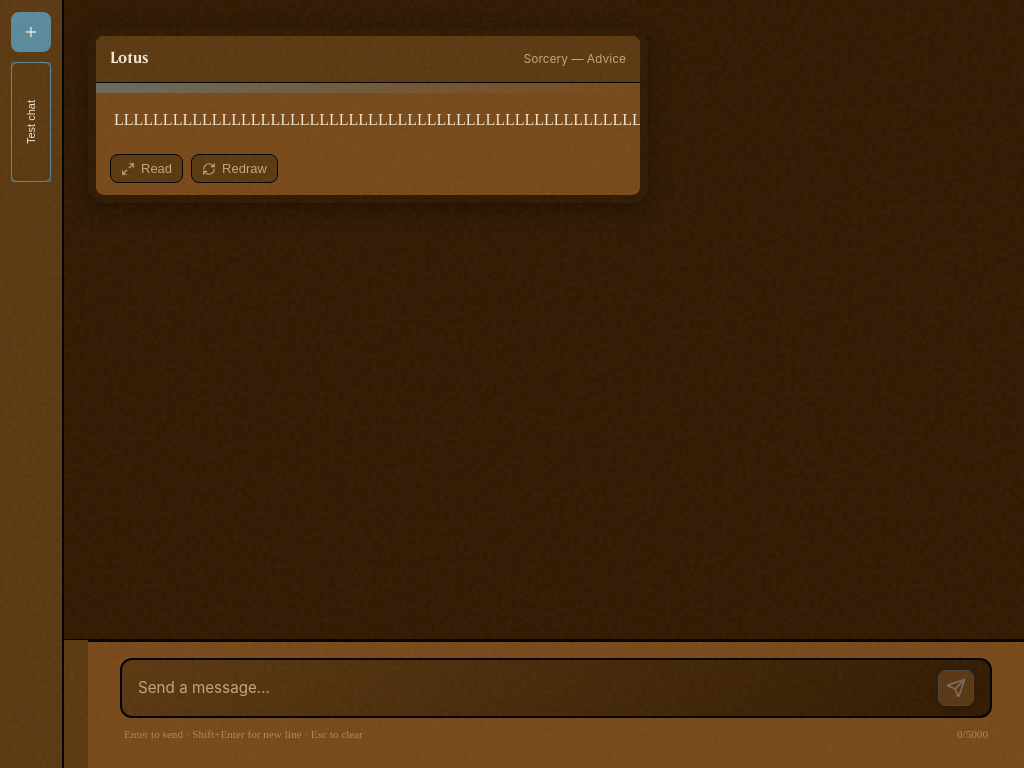
Scenario: CardsLayout › opens and closes the expanded reading overlay
The image size is (1024, 768).
Step 1. Click the button with aria-label "Read full response" → [147, 169], box [110,154,183,183]
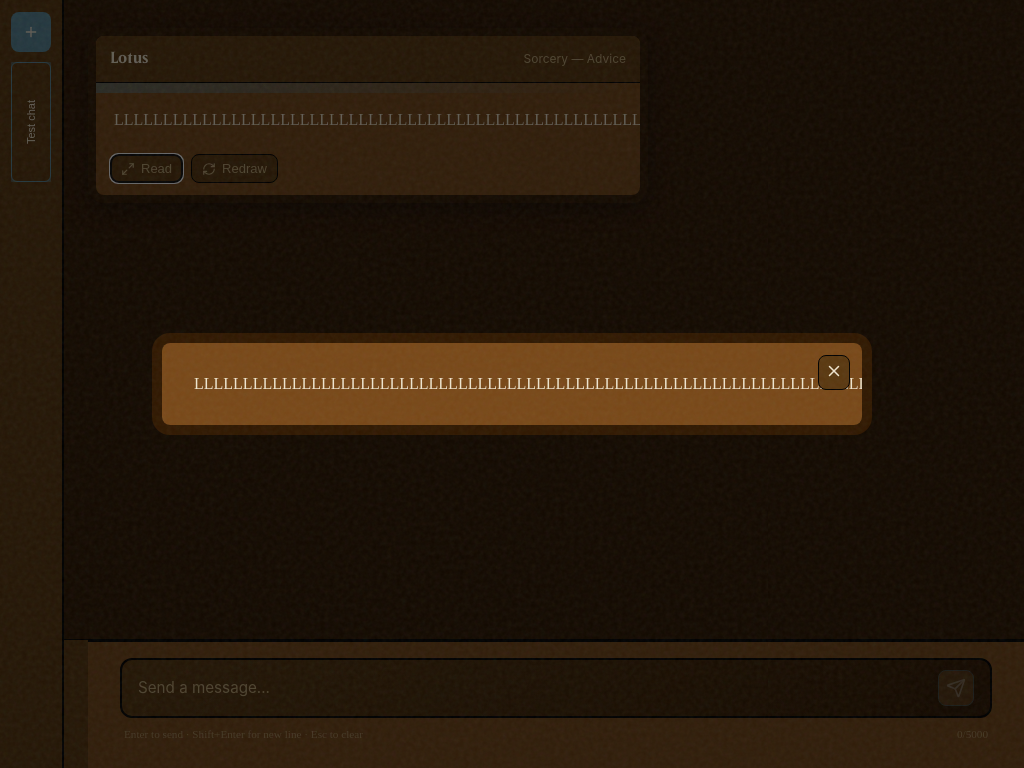
Result: the button named "Close" is shown
Step 2. Click the button named "Close" → [834, 373], box [818,355,850,390]
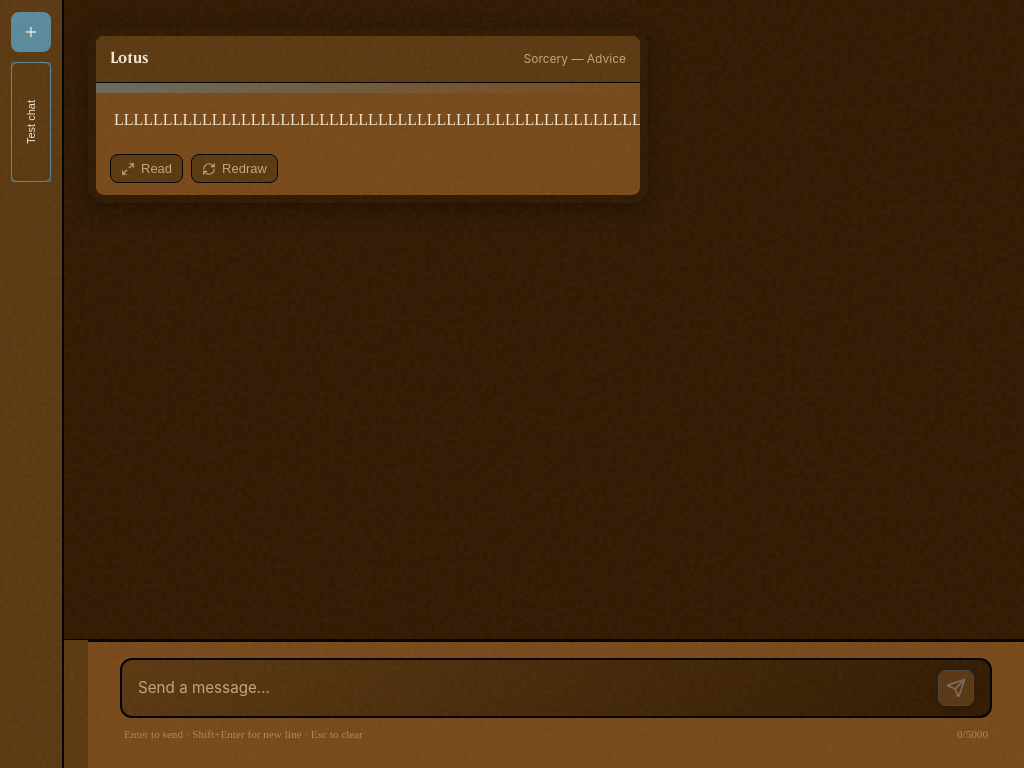
Result: the button "Close" is gone
